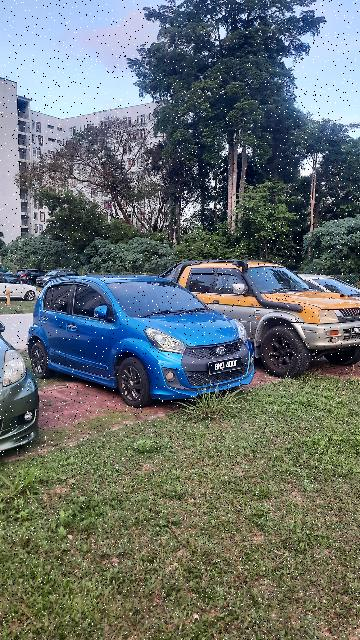License_Plate: (209, 358, 246, 377), (349, 326, 360, 336)
car: (29, 271, 261, 410), (154, 258, 360, 379)
